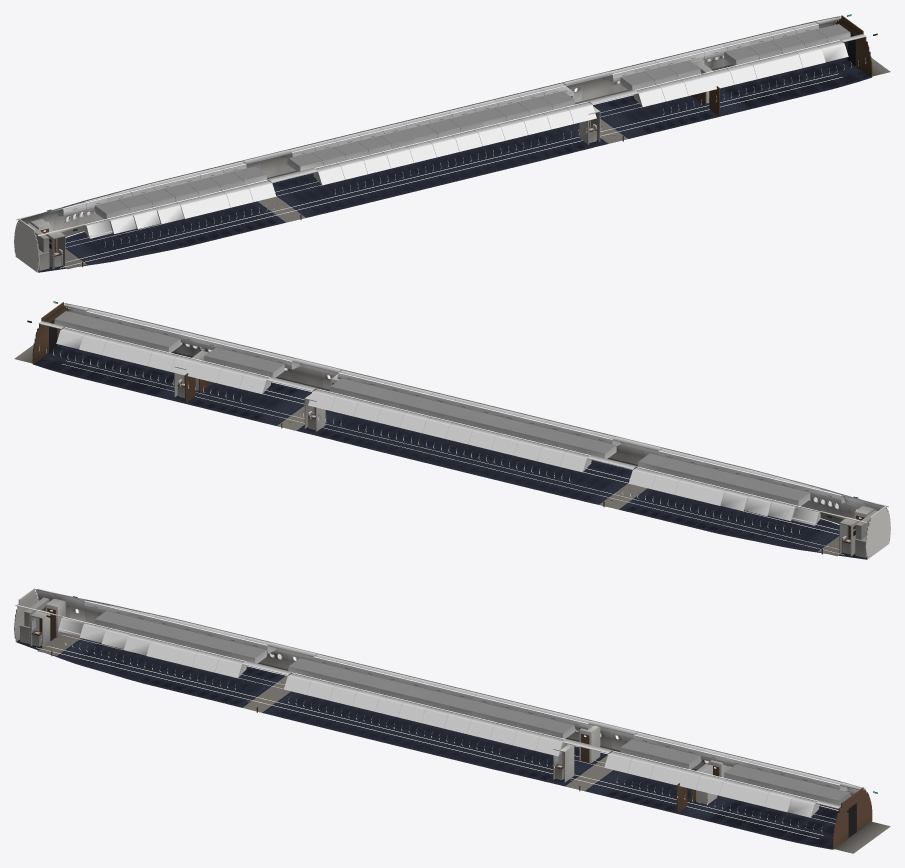
The model's file is ma-w8-cabin.glb.
The picture shows the model from 3 angles, top to bottom: view 1: azimuth 30°, elevation 25°; view 2: azimuth 150°, elevation 25°; view 3: azimuth 330°, elevation 25°; orthographic projection.
Visible parts, largest first — view 1: Cabin_Overhead, Cabin_Floor, Cabin_Monuments, Cabin_Lining, Cabin_Reveals; view 2: Cabin_Overhead, Cabin_Floor, Cabin_Monuments, Cabin_Lining, Cabin_Reveals; view 3: Cabin_Overhead, Cabin_Floor, Cabin_Monuments, Cabin_Lining, Cabin_Reveals.
Part boxes in pixels (x1,y1,x2,y2): Cabin_Overhead: (16,16,866,238); Cabin_Floor: (38,58,890,272); Cabin_Monuments: (14,14,877,272); Cabin_Lining: (15,16,840,253); Cabin_Reveals: (66,56,866,246); Cabin_Overhead: (38,303,888,525); Cabin_Floor: (14,345,866,559); Cabin_Monuments: (27,301,890,559); Cabin_Lining: (64,303,889,541); Cabin_Reveals: (39,343,838,533); Cabin_Overhead: (15,588,865,817); Cabin_Floor: (16,633,890,853); Cabin_Monuments: (14,588,877,849); Cabin_Lining: (35,589,871,810); Cabin_Reveals: (65,614,822,831).
Size of the model in its own units: 59.83 by 2.78 by 5.48.
21 materials, 7 textured.
